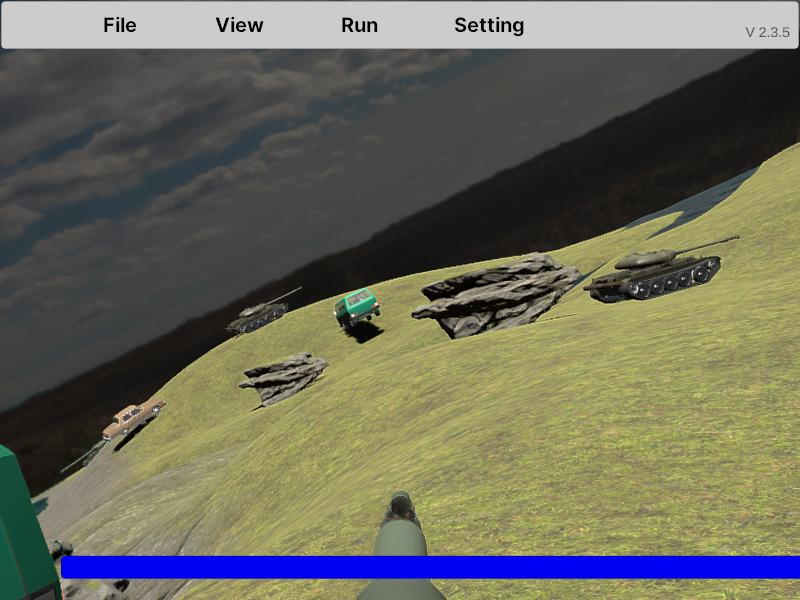Tank: (581, 235, 741, 304), (226, 286, 303, 336)
car: (103, 401, 164, 441), (335, 288, 381, 331)
